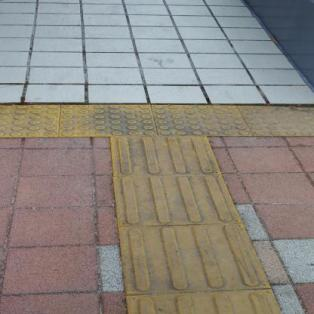Podoctatil: (98, 130, 290, 314), (0, 97, 313, 142)
